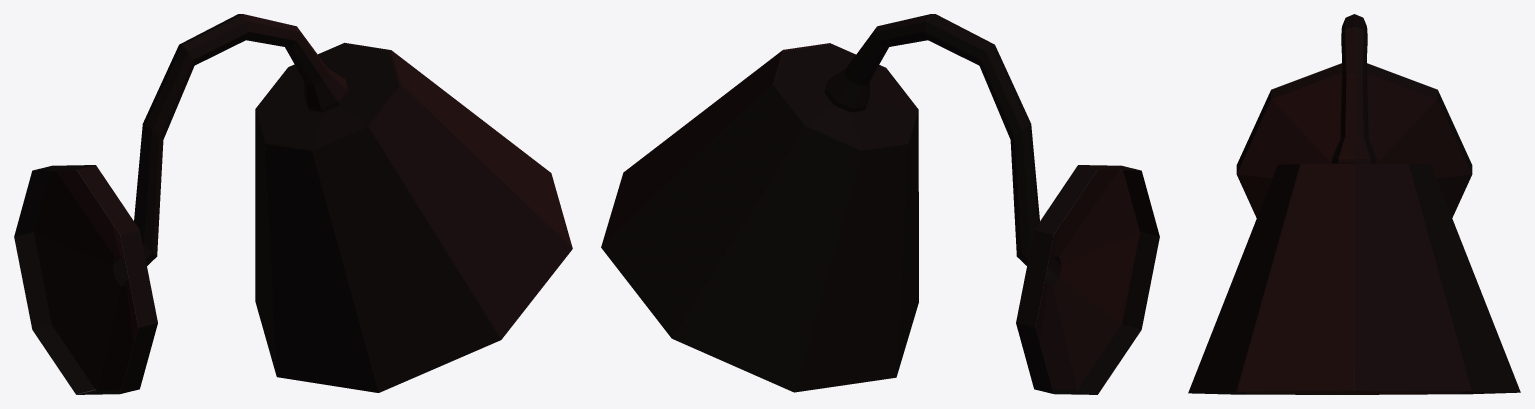
Rendered from lampada_da_escada_do_hospital.fbx.
The picture shows the model from 3 angles, left to right: view 1: azimuth 30°, elevation 25°; view 2: azimuth 150°, elevation 25°; view 3: azimuth 270°, elevation 25°; orthographic projection. The views are drawn at different scales.
Visible parts, largest first — view 1: lampada da escada do hospital; view 2: lampada da escada do hospital; view 3: lampada da escada do hospital.
Boxes of the visible parts, bbox=[...] form: lampada da escada do hospital: bbox=[14, 14, 572, 394]; lampada da escada do hospital: bbox=[601, 14, 1159, 394]; lampada da escada do hospital: bbox=[1188, 14, 1520, 394].
Bounding box in the file's own units: 441 × 330 × 282.
Materials: 1 (1 with a texture image).
